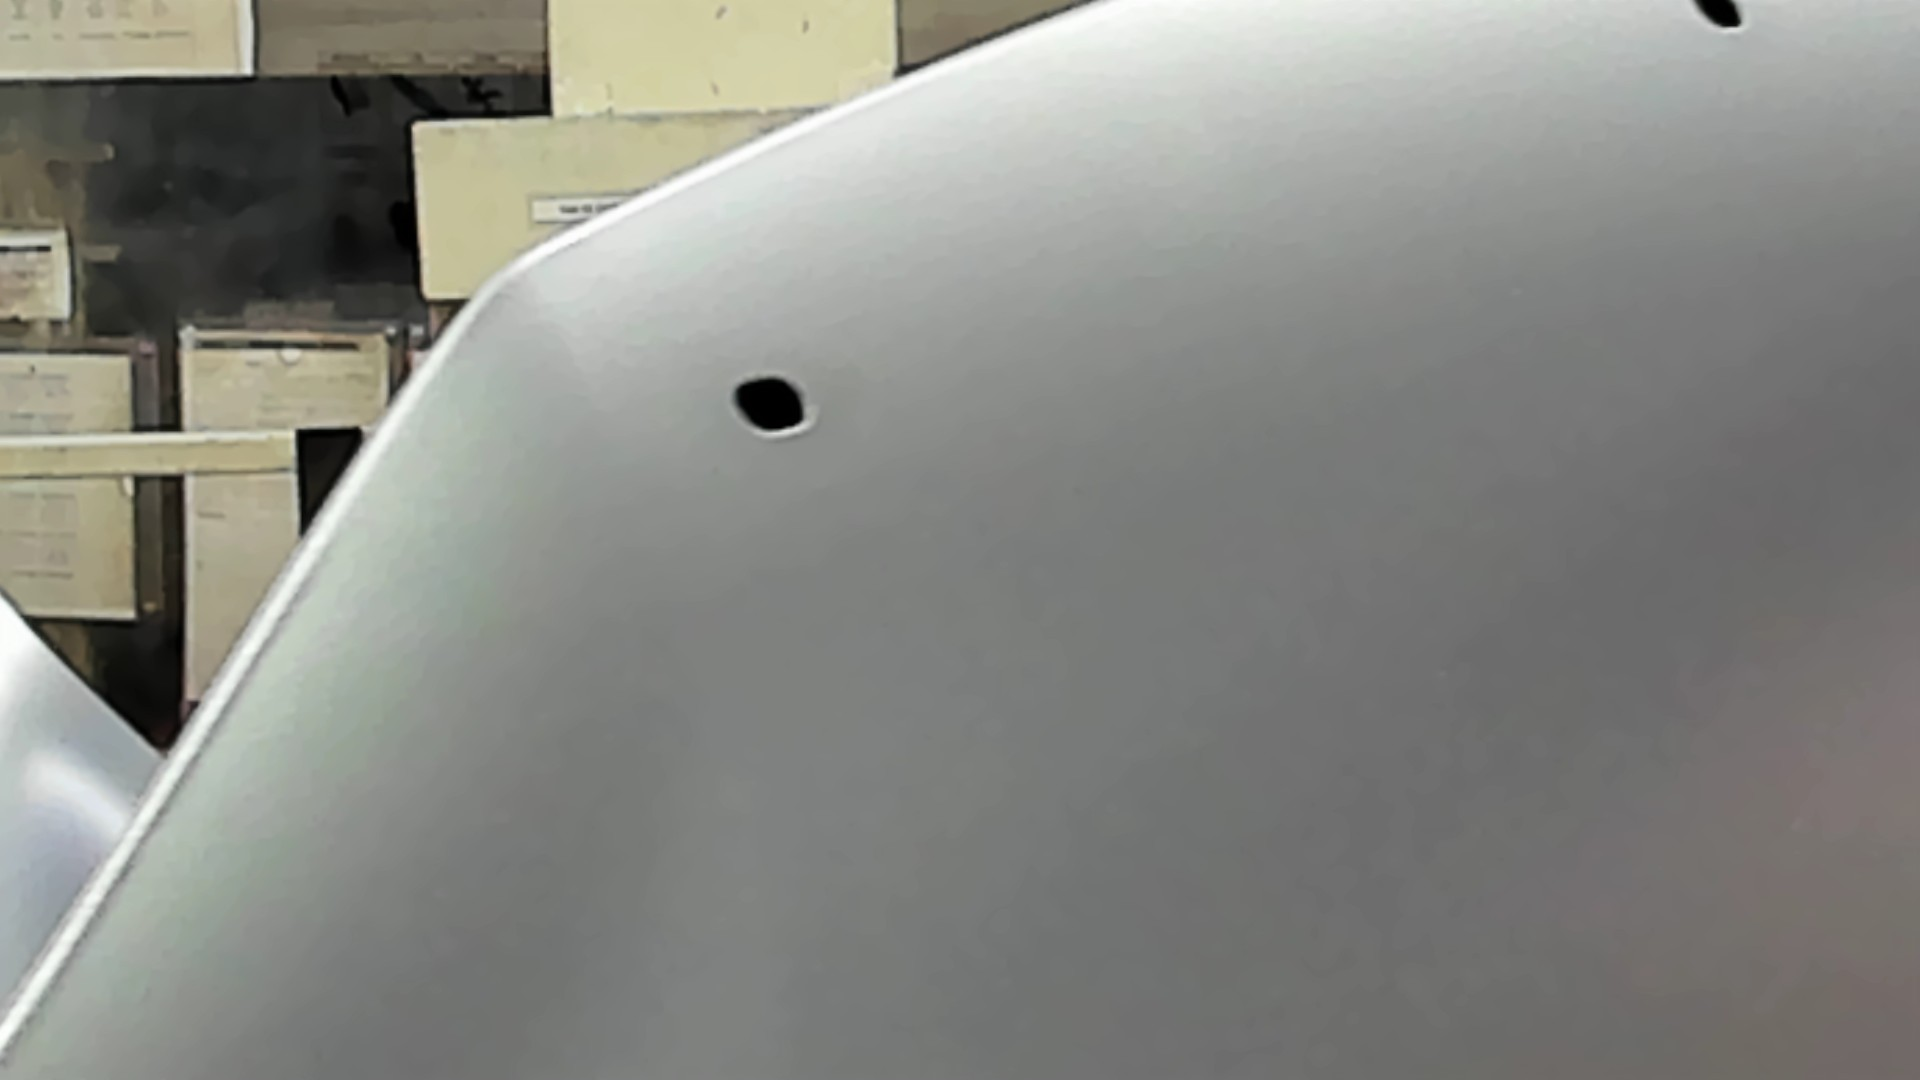amorfo: (724, 368, 819, 442), (1692, 1, 1753, 33)
capo: (899, 124, 1920, 1080)
